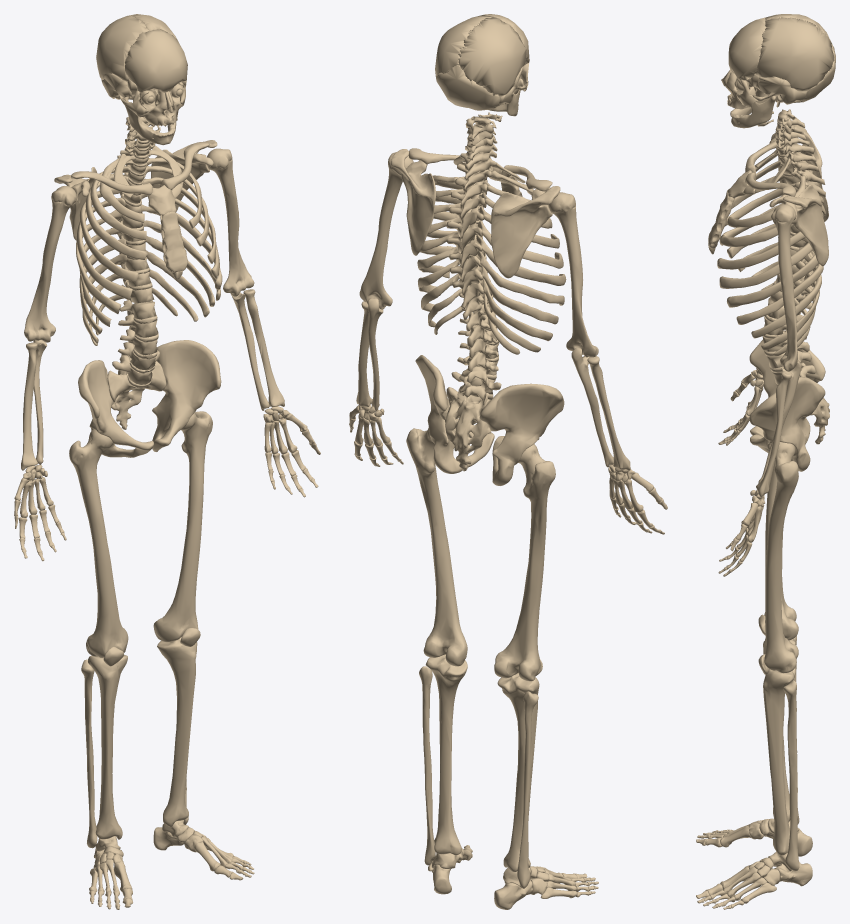
The model's file is bones.glb.
3 renders of one model, left to right at view 1: azimuth 30°, elevation 25°; view 2: azimuth 150°, elevation 25°; view 3: azimuth 270°, elevation 25°, orthographic. The views are drawn at different scales.
Visible parts, largest first — view 1: skull, ribs_right, spine, ribs_left, femur_right, femur_left, pelvis_left, tibia_left, tibia_right, pelvis_right, humerus_right, humerus_left (+19 smaller); view 2: spine, skull, ribs_right, femur_right, femur_left, pelvis_right, ribs_left, scapula_right, tibia_left, tibia_right, pelvis_left, humerus_right (+15 smaller); view 3: skull, ribs_left, femur_left, spine, tibia_left, pelvis_left, humerus_left, scapula_left, ribs_right, fibula_left, pelvis_right, tarsals_left (+19 smaller).
Boxes of the visible parts, x1,y1,x2,y2 form: skull: (96,14,187,132); ribs_right: (76,154,146,345); spine: (109,117,159,387); ribs_left: (140,146,222,321); femur_right: (69,429,128,657); femur_left: (153,411,212,642); pelvis_left: (152,340,221,451); tibia_left: (157,637,197,826); tibia_right: (88,654,127,839); pelvis_right: (78,360,153,457); humerus_right: (24,186,76,342); humerus_left: (207,148,254,296); spine: (446,116,501,400); skull: (435,14,529,121); ribs_right: (476,162,566,354); femur_right: (494,444,555,681); femur_left: (406,428,467,666); pelvis_right: (479,383,564,485); ribs_left: (417,156,487,334); scapula_right: (491,186,560,278); tibia_left: (425,654,467,854); tibia_right: (497,673,539,871); pelvis_left: (415,355,494,473); humerus_right: (548,192,598,357); skull: (721,14,835,126); ribs_left: (717,156,823,356); femur_left: (764,442,798,673); spine: (762,109,825,386); tibia_left: (763,668,795,855); pelvis_left: (749,377,825,471); humerus_left: (771,204,797,371); scapula_left: (769,184,828,266); ribs_right: (719,144,824,296); fibula_left: (783,680,799,870); pelvis_right: (749,330,825,444); tarsals_left: (748,851,812,886).
Size of the model in its own units: 0.6479 by 1.71 by 0.2537.
